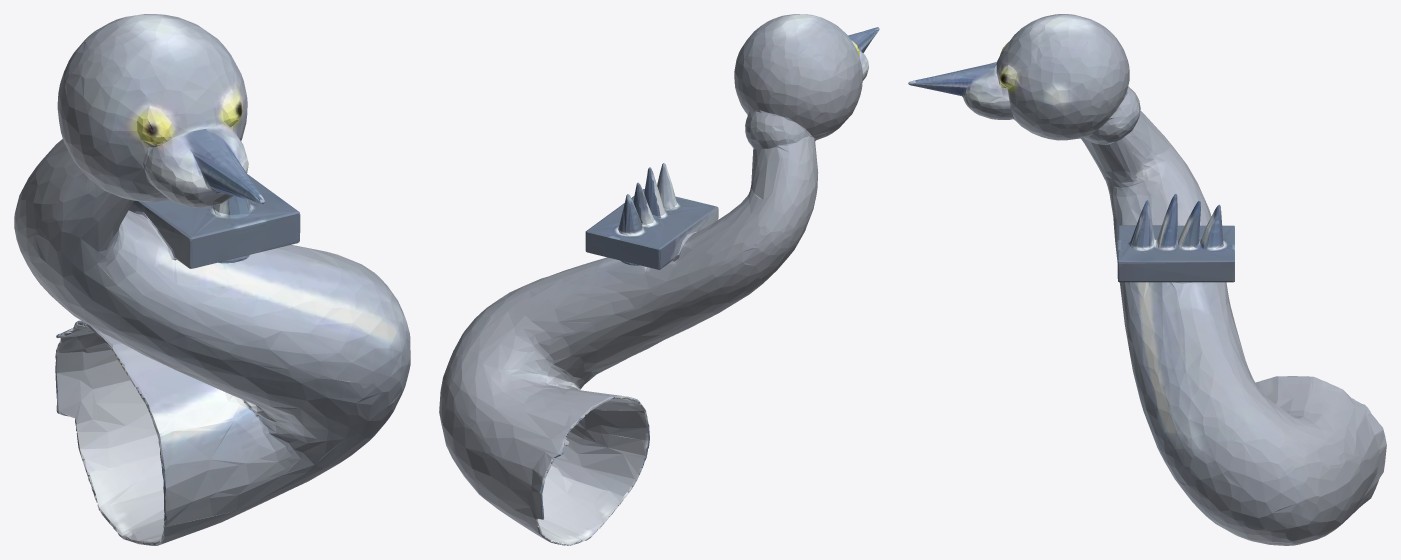
File: creature-045.lod.glb
The picture shows the model from 3 angles, left to right: view 1: azimuth 30°, elevation 25°; view 2: azimuth 150°, elevation 25°; view 3: azimuth 270°, elevation 25°; orthographic projection. The views are drawn at different scales.
Visible parts, largest first — view 1: tmpuk_4wmrz.ply; view 2: tmpuk_4wmrz.ply; view 3: tmpuk_4wmrz.ply.
Part boxes in pixels (x1,y1,x2,y2): tmpuk_4wmrz.ply: (14,14,410,545); tmpuk_4wmrz.ply: (439,14,879,545); tmpuk_4wmrz.ply: (908,14,1386,545).
Bounding box in the file's own units: 1.41 × 1.99 × 1.89.
1 material, 1 textured.
